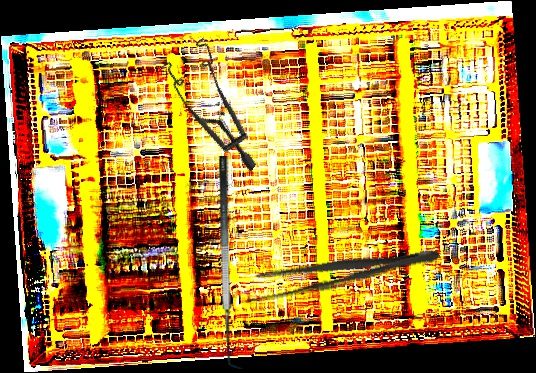Dressing Forceps: (239, 237, 443, 308)
Spatula Surgical: (218, 156, 246, 369)
Speculum: (138, 26, 299, 173)
